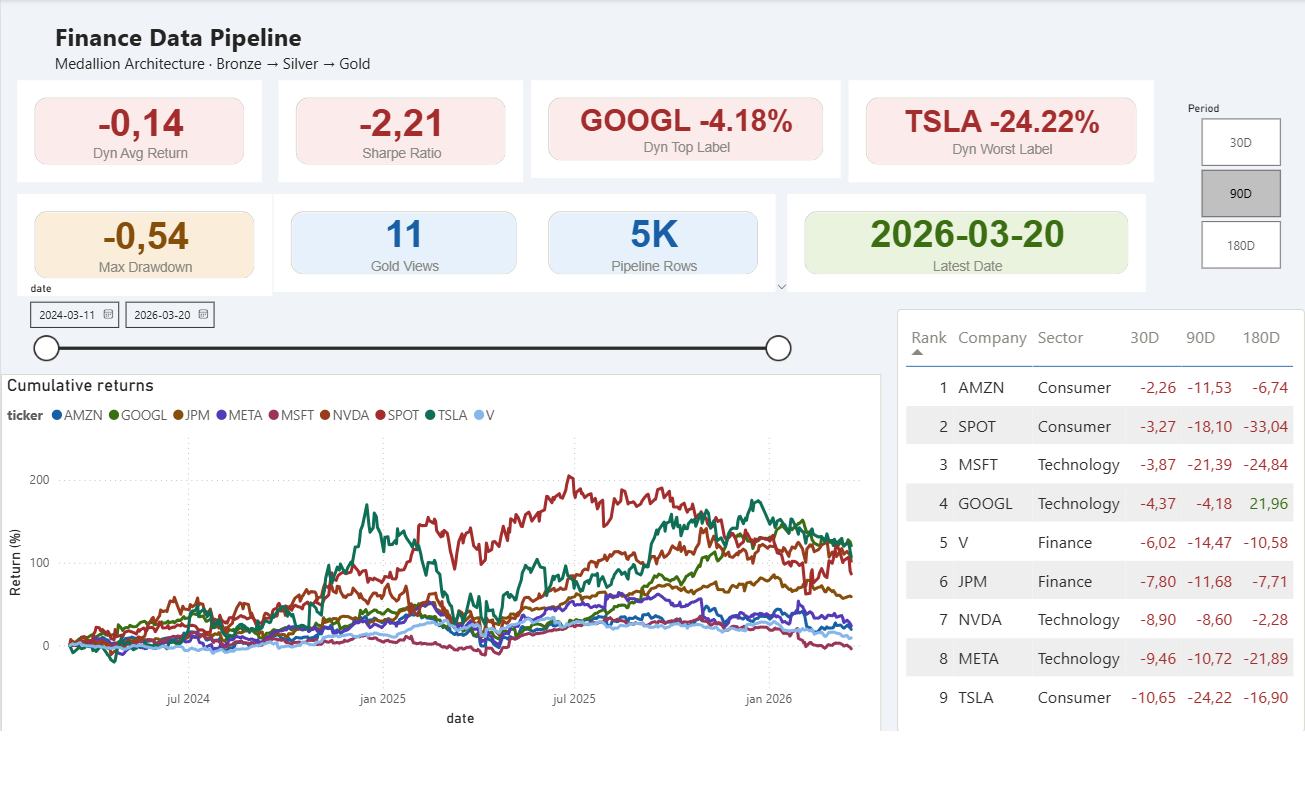

What the dashboard file says about the page in this screenshot:
{"tool":"powerbi","page":{"name":"Overview","canvas":[1280,720],"ordinal":0},"visuals":[{"type":"cardVisual","fields":{"Data":["_Measures.Dyn Avg Return"]},"box":[16,80,240,100],"z":0},{"type":"cardVisual","fields":{"Data":["_Measures.Sharpe Ratio"]},"box":[272,80,240,100],"z":1000},{"type":"cardVisual","fields":{"Data":["_Measures.Latest Date"]},"box":[772,192,352,96],"z":2000},{"type":"cardVisual","fields":{"Data":["_Measures.Pipeline Rows"]},"box":[520,192,240,96],"z":3000},{"type":"cardVisual","fields":{"Data":["_Measures.Gold Views"]},"box":[268,192,256,96],"z":4000},{"type":"cardVisual","fields":{"Data":["_Measures.Max Drawdown"]},"box":[16,192,250,100],"z":5000},{"type":"cardVisual","fields":{"Data":["_Measures.Dyn Top Label"]},"box":[520,80,304,96],"z":6000},{"type":"cardVisual","fields":{"Data":["_Measures.Dyn Worst Label"]},"box":[832,80,300,100],"z":7000},{"type":"lineChart","title":"Cumulative returns","fields":{"Category":["public gold_cumulative_returns.date.Variation.Date Hierarchy.Day"],"Y":["Avg(public gold_cumulative_returns.cumulative_return_pct)"],"Series":["public gold_cumulative_returns.ticker"]},"box":[0,368,864,352],"z":8000},{"type":"slicer","fields":{"Values":["public gold_cumulative_returns.date"]},"box":[16,272,768,96],"z":9000},{"type":"textbox","box":[48,16,496,80],"z":10000},{"type":"tableEx","fields":{"Values":["Sum(public gold_best_worst_performers.rank_best)","public gold_best_worst_performers.ticker","public gold_best_worst_performers.sector","Sum(public gold_best_worst_performers.return_30d_pct)","Sum(public gold_best_worst_performers.return_90d_pct)","Sum(public gold_best_worst_performers.return_180d_pct)"]},"box":[880,304,400,416],"z":11000},{"type":"slicer","fields":{"Values":["Period.Period"]},"box":[1152,96,128,176],"z":12000}]}

Visuals, with their boxes on the page's 1280x720 design canvas (x1, y1, x2, y2). These are canvas units, not pixel positions in the 1305x794 screenshot, which may show the page scaled, cropped or inside an application window:
cardVisual - _Measures.Dyn Avg Return: {"left": 16, "top": 80, "right": 256, "bottom": 180}
cardVisual - _Measures.Sharpe Ratio: {"left": 272, "top": 80, "right": 512, "bottom": 180}
cardVisual - _Measures.Latest Date: {"left": 772, "top": 192, "right": 1124, "bottom": 288}
cardVisual - _Measures.Pipeline Rows: {"left": 520, "top": 192, "right": 760, "bottom": 288}
cardVisual - _Measures.Gold Views: {"left": 268, "top": 192, "right": 524, "bottom": 288}
cardVisual - _Measures.Max Drawdown: {"left": 16, "top": 192, "right": 266, "bottom": 292}
cardVisual - _Measures.Dyn Top Label: {"left": 520, "top": 80, "right": 824, "bottom": 176}
cardVisual - _Measures.Dyn Worst Label: {"left": 832, "top": 80, "right": 1132, "bottom": 180}
"Cumulative returns" lineChart: {"left": 0, "top": 368, "right": 864, "bottom": 720}
slicer - public gold_cumulative_returns.date: {"left": 16, "top": 272, "right": 784, "bottom": 368}
textbox: {"left": 48, "top": 16, "right": 544, "bottom": 96}
tableEx - Sum(public gold_best_worst_performers.rank_best) x public gold_best_worst_performers.ticker: {"left": 880, "top": 304, "right": 1280, "bottom": 720}
slicer - Period.Period: {"left": 1152, "top": 96, "right": 1280, "bottom": 272}
